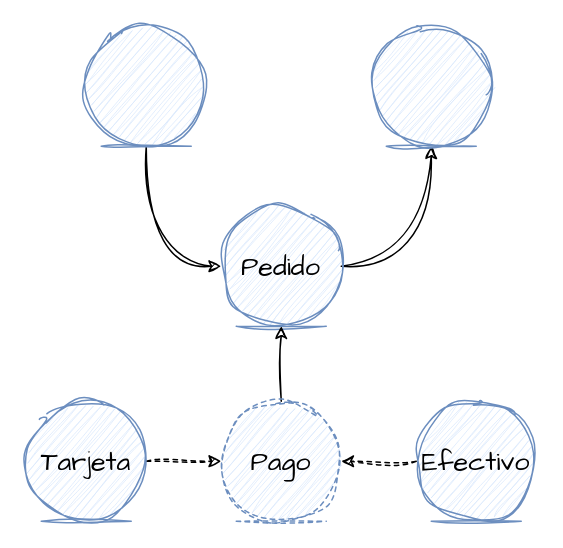
Image size: 563x548. Some labels were removed from this diagram. Each missing label, with the centre of its shape:
"Articulo" belongs at point (145, 85).
"Usuario" belongs at point (430, 85).
